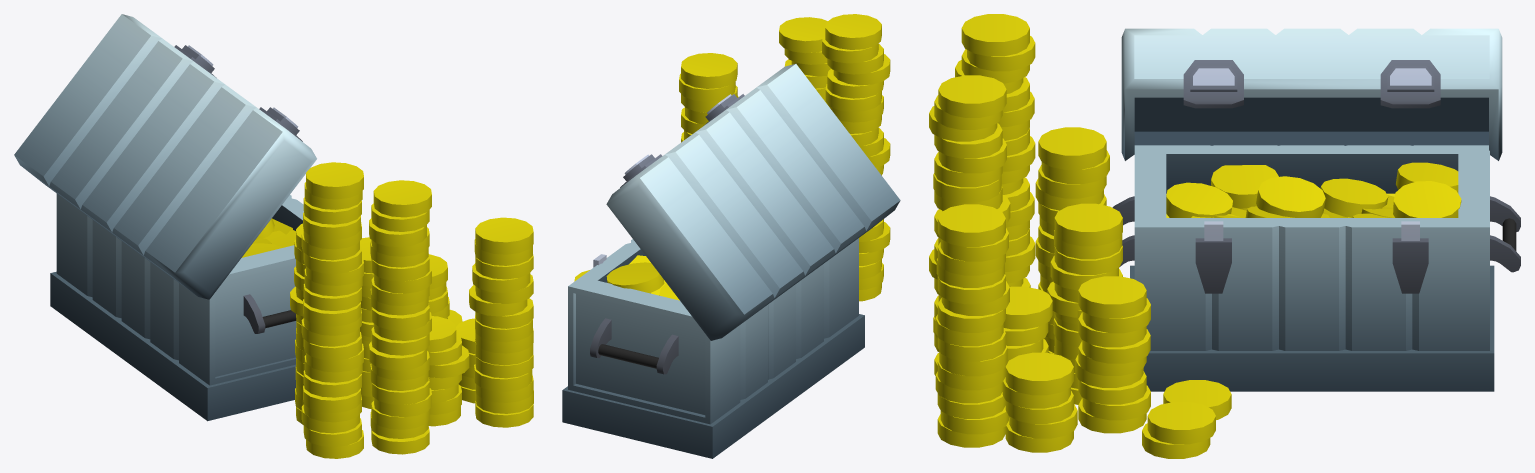
File: chest-pallet.fbx
3 renders of one model, left to right at view 1: azimuth 30°, elevation 25°; view 2: azimuth 150°, elevation 25°; view 3: azimuth 270°, elevation 25°, orthographic. The views are drawn at different scales.
Parts seen in each view (by area): view 1: chest, chest.001, coin.060, coin.099, coin.136, coin.090, coin.133, coin.119, coin.126, coin.087, coin.097, coin.134 (+50 smaller); view 2: chest, chest.001, coin.060, coin.136, coin.099, coin.004, coin.132, coin.135, coin.131, coin.059, coin.133, coin.134 (+6 smaller); view 3: chest.001, chest, coin.079, coin.045, coin.114, coin.099, coin.032, coin.060, coin.136, coin.030, coin.007, coin.004 (+51 smaller).
Part boxes in pixels (x1,y1,x2,y2): chest: (14,14,316,299); chest.001: (50,193,303,421); coin.060: (475,217,533,254); coin.099: (373,180,431,217); coin.136: (306,162,363,199); coin.090: (371,303,429,330); coin.133: (303,212,360,239); coin.119: (303,385,360,412); coin.126: (303,299,360,326); coin.087: (369,341,426,370); coin.097: (369,218,426,247); coin.134: (303,197,361,224); chest: (606,63,900,340); chest.001: (562,238,864,458); coin.060: (681,53,737,88); coin.136: (825,14,881,49); coin.099: (779,17,827,53); coin.004: (606,262,664,293); coin.132: (827,69,883,98); coin.135: (822,34,878,63); coin.131: (825,84,881,111); coin.059: (679,73,735,101); coin.133: (833,54,890,85); coin.134: (827,44,883,74); chest.001: (1112,145,1520,391); chest: (1121,28,1502,160); coin.079: (1054,203,1122,246); coin.045: (1005,352,1073,395); coin.114: (1038,127,1106,169); coin.099: (938,75,1006,117); coin.032: (1078,276,1146,318); coin.060: (937,204,1005,246); coin.136: (961,14,1029,56); coin.030: (1147,402,1215,444); coin.007: (1256,176,1325,217); coin.004: (1393,181,1461,217).
Bounding box in the file's own units: 451 × 382 × 647.
Materials: 1 (1 with a texture image).
